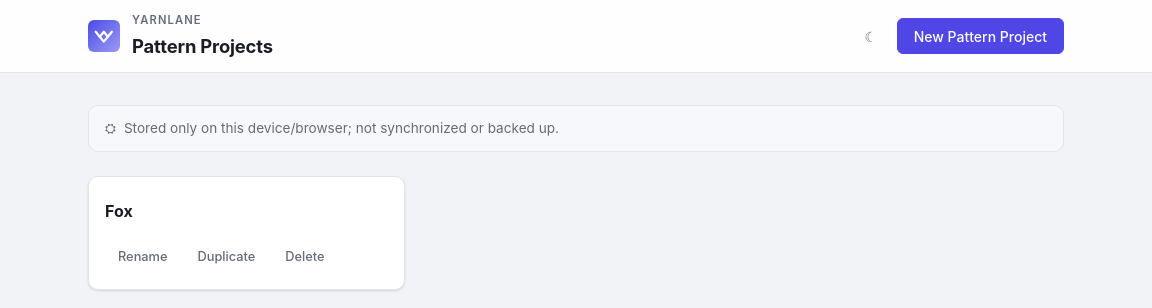
Test: Project library management › duplicates a Pattern Project into an independent copy
The width and height of the screenshot is (1152, 308).
Click the button with aria-label "duplicate fox": (226, 257) 184,241 -> 268,273
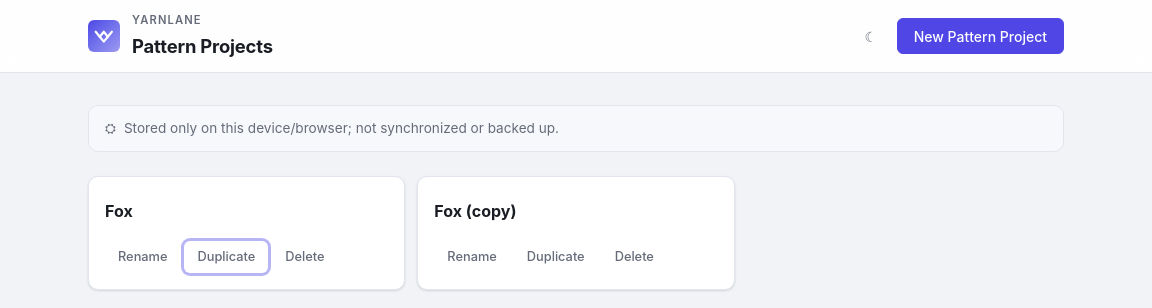
Expected: the button "Fox (copy)" is shown, 434,189 -> 718,233
